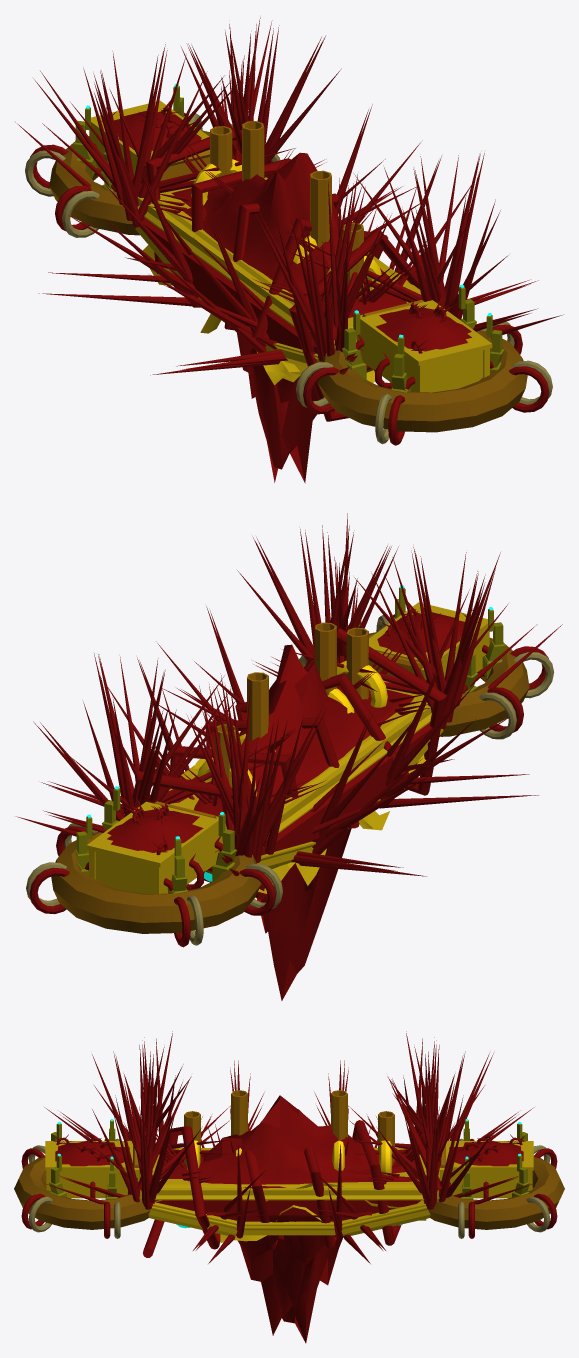
Rendered from bbb.fbx.
The picture shows the model from 3 angles, top to bottom: view 1: azimuth 30°, elevation 25°; view 2: azimuth 150°, elevation 25°; view 3: azimuth 270°, elevation 25°; orthographic projection. The views are drawn at different scales.
Visible parts, largest first — view 1: demo_boss_1; view 2: demo_boss_1; view 3: demo_boss_1.
Part boxes in pixels (x1,y1,x2,y2): demo_boss_1: (15,17,563,483); demo_boss_1: (16,513,562,1000); demo_boss_1: (14,1031,564,1343).
Bounding box in the file's own units: 319 × 302 × 528.
